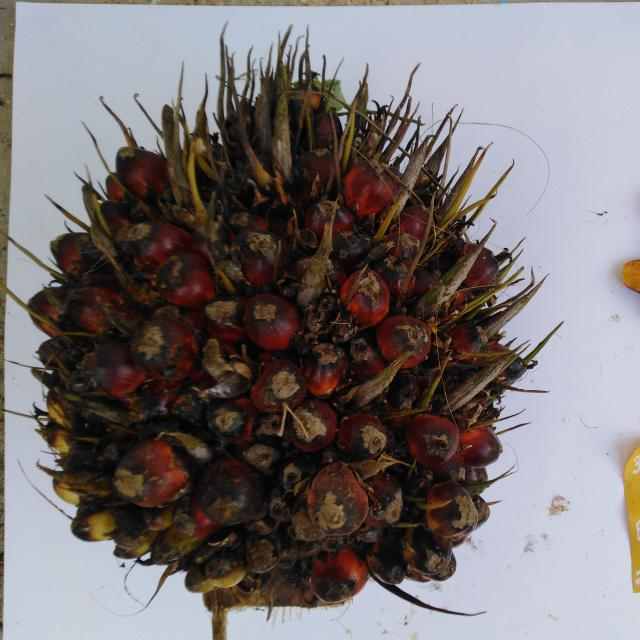FFB: (40, 67, 491, 590)
